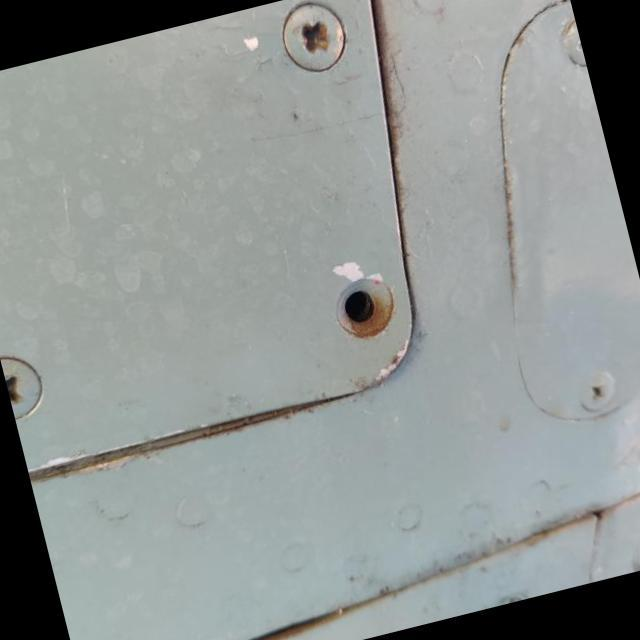Fastener Damage: (272, 215, 460, 406)
